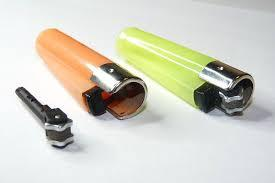lighter: (120, 23, 255, 125), (37, 23, 150, 124)
